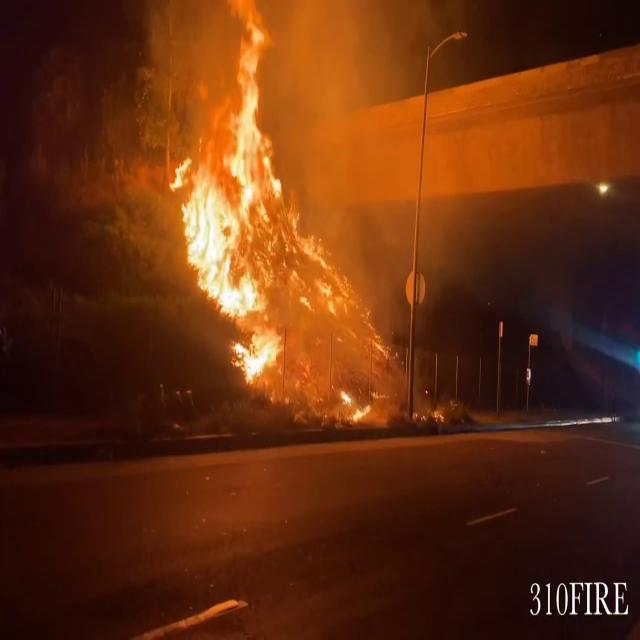Fire: (156, 3, 310, 393)
